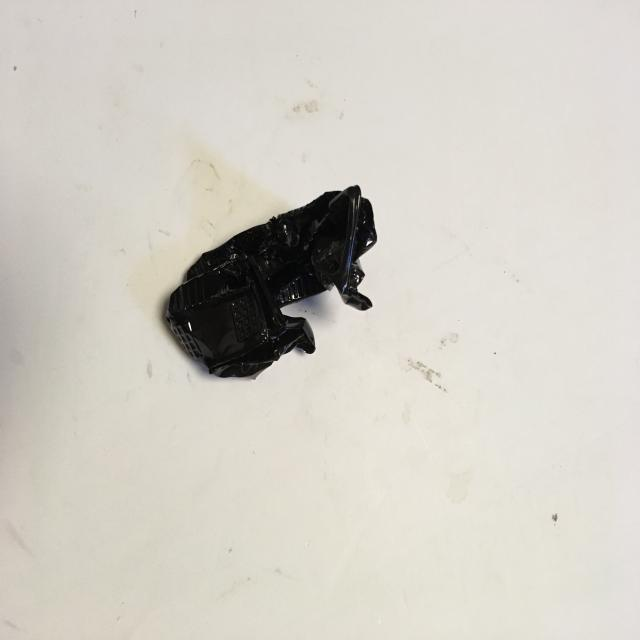Plastic: (144, 177, 432, 401)
